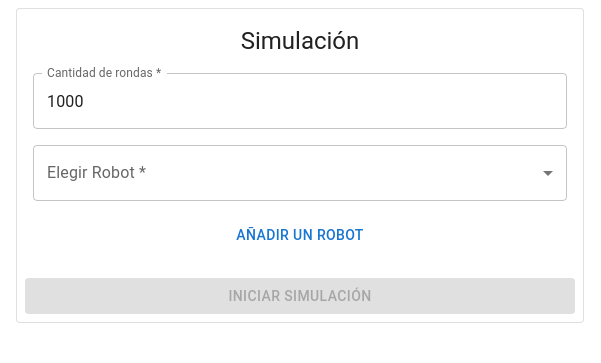
Test: should not send form
This screenshot has width=601, height=363.
Click the number field labelled "Cantidad de rondas *" at (300, 101), box [33, 73, 567, 129]
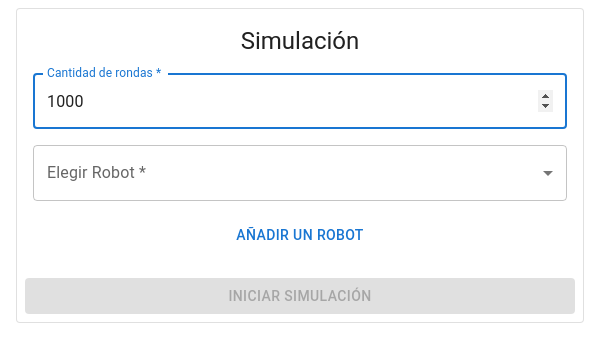
Type keys "123456789"
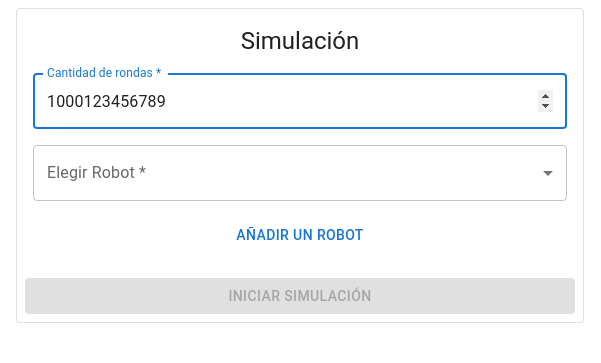
Click the dropdown named "Elegir Robot *" at (300, 173), box [33, 145, 567, 201]
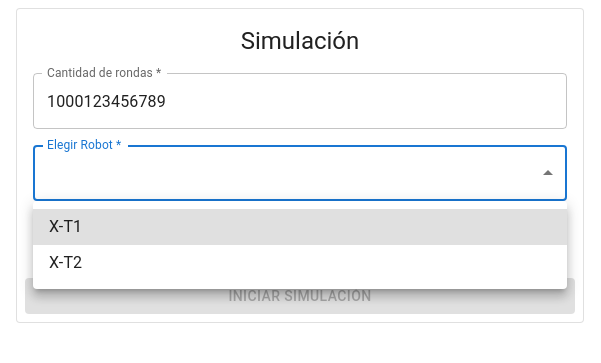
Click the option "X-T1" at (66, 226), box [33, 209, 567, 245]
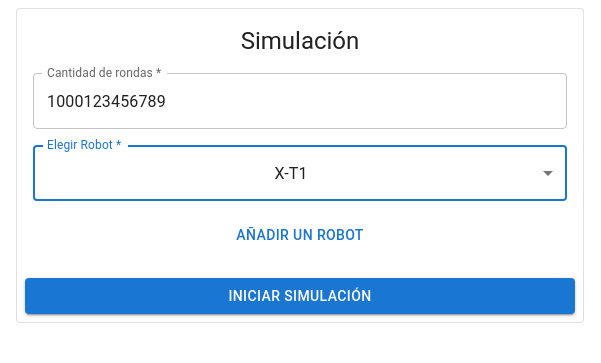
Click the button with test id "simulation-form-start-button" at (300, 296), box [25, 278, 575, 314]
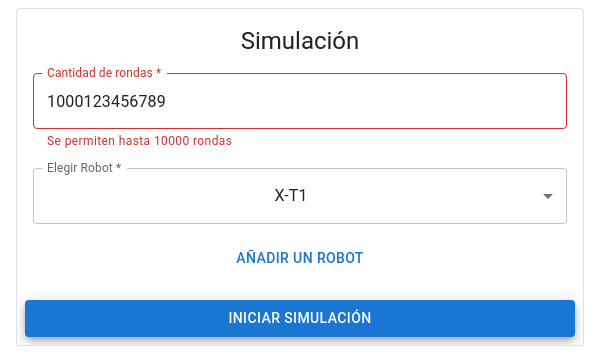
expect the text "Se permiten hasta 10000 rondas" is shown: met, box [47, 134, 232, 148]
